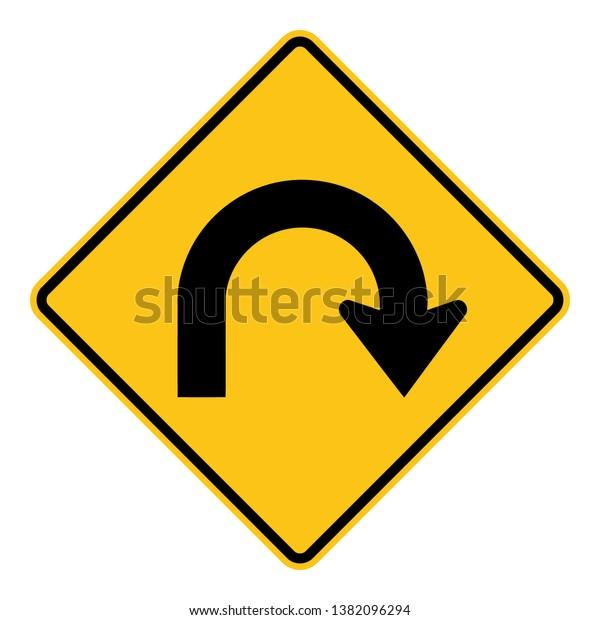Right Hair Pin Bend: (93, 75, 553, 472)
